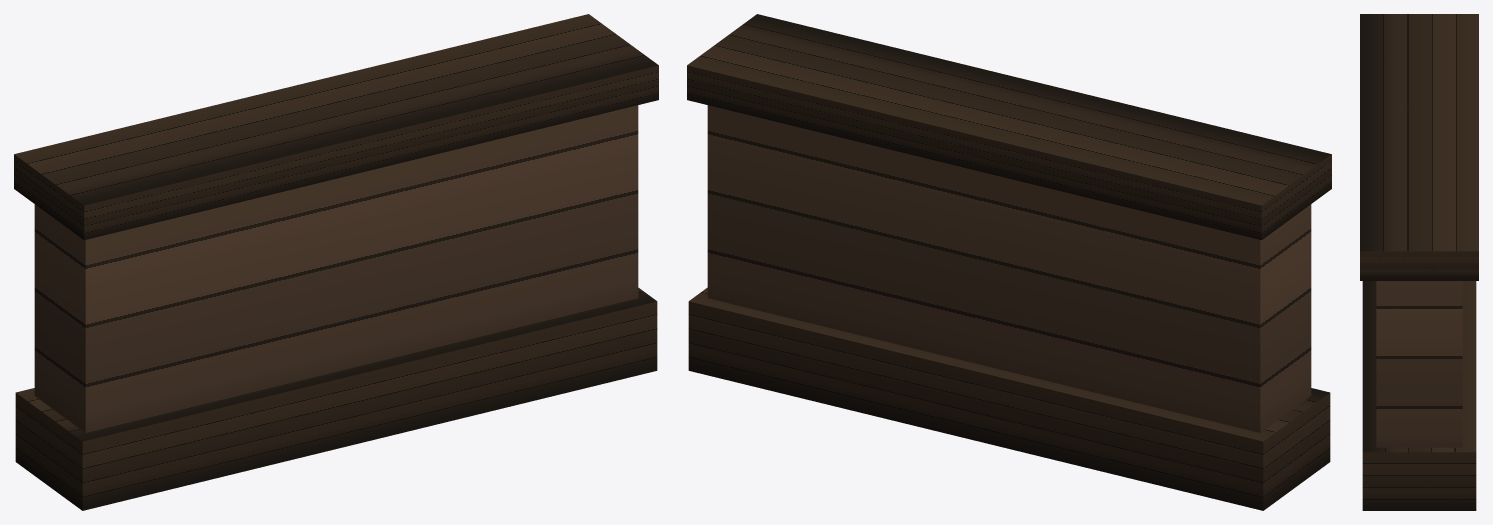
Rendered from wall_half_wood.gltf.
3 renders of one model, left to right at view 1: azimuth 30°, elevation 25°; view 2: azimuth 150°, elevation 25°; view 3: azimuth 270°, elevation 25°, orthographic. The views are drawn at different scales.
Visible parts, largest first — view 1: wall_half_wood; view 2: wall_half_wood; view 3: wall_half_wood.
Boxes of the visible parts, x1=… form: wall_half_wood: x1=14, y1=14, x2=658, y2=510; wall_half_wood: x1=687, y1=14, x2=1331, y2=510; wall_half_wood: x1=1360, y1=14, x2=1478, y2=510.
Bounding box in the file's own units: 1.04 × 0.53 × 0.22.
Materials: 1 (1 with a texture image).
